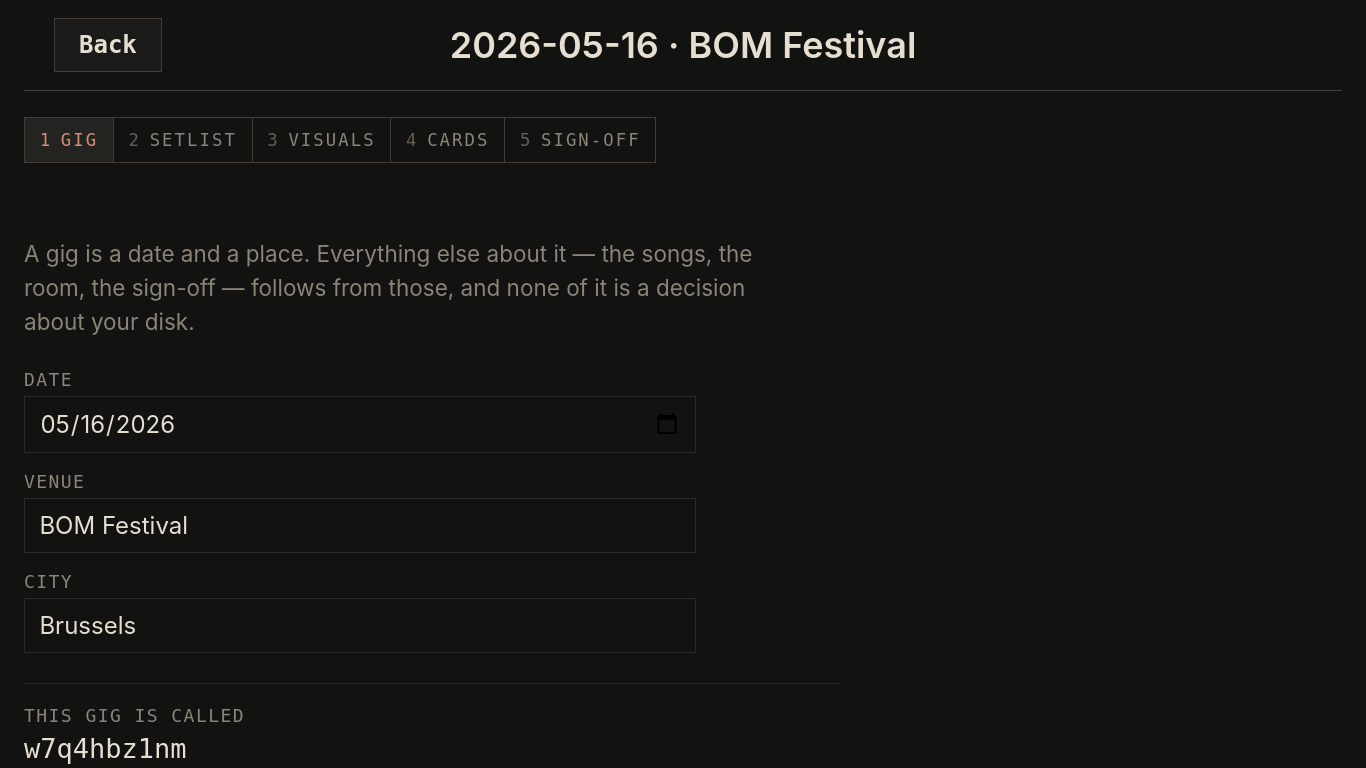
the check screen › fails the belongs line, not the mapped line, for another gig’s room
The width and height of the screenshot is (1366, 768).
Click the button with test id "gig-flow-step-5" at (580, 140), box [505,118,655,162]
(page scrolled)
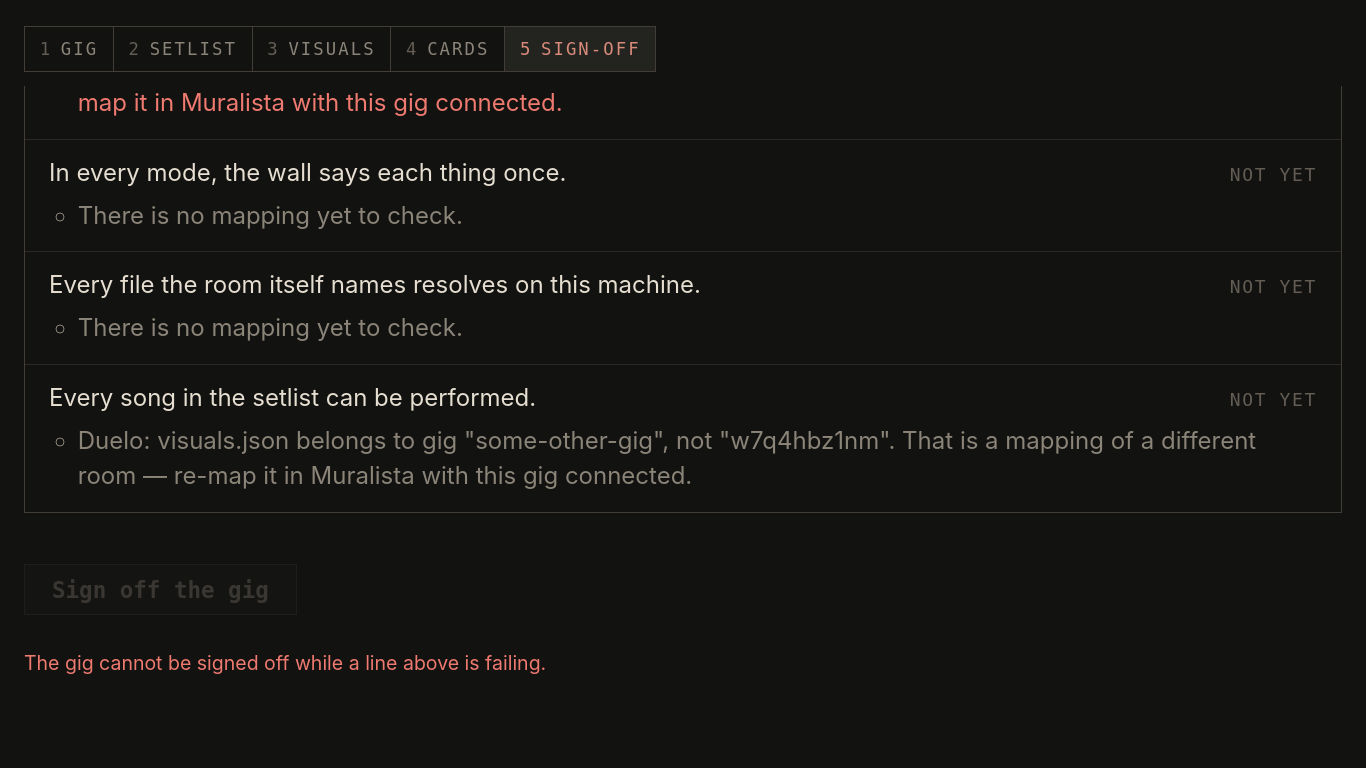
Result: the list with test id "gig-check-belongs-detail" shows "different room" at [78,53,1313,117]
Result: the button with test id "gig-flow-confirm" is disabled at [24,564,297,615]
